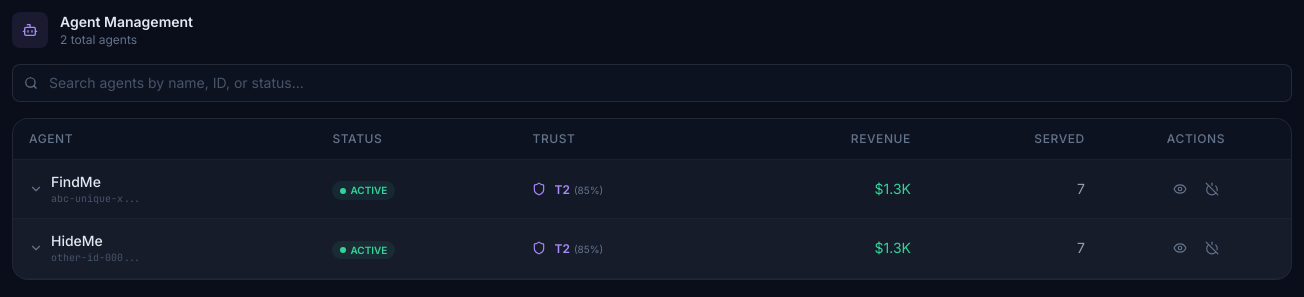
Test: AgentManagement › filters agents by agent_id
This screenshot has width=1304, height=297.
In the field with placeholder "Search agents by name, ID, or status...": (652, 83) [12, 64, 1292, 102], type "abc-unique"
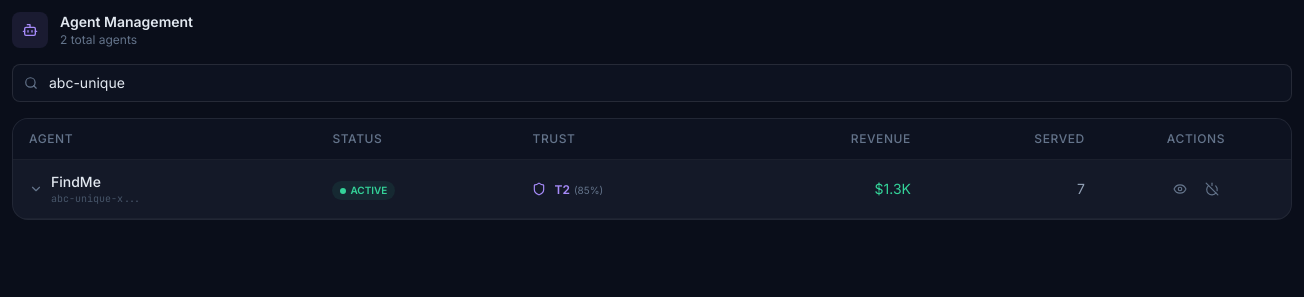
Expected: the text "FindMe" is shown, [51, 173, 101, 190]
Expected: the text "HideMe" is gone
